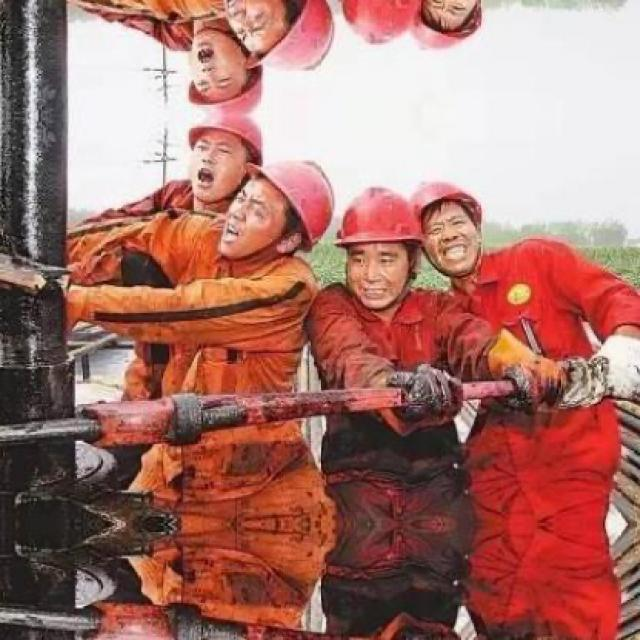Reflective-Jacket: (447, 247, 636, 546), (106, 204, 319, 466), (312, 280, 477, 480)
Safety-Helmet: (238, 150, 342, 256), (329, 179, 431, 259), (403, 167, 497, 236), (174, 113, 272, 157)
